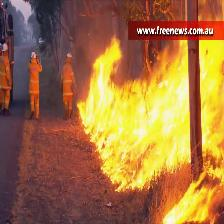fire: (77, 35, 224, 192), (163, 166, 224, 224)
